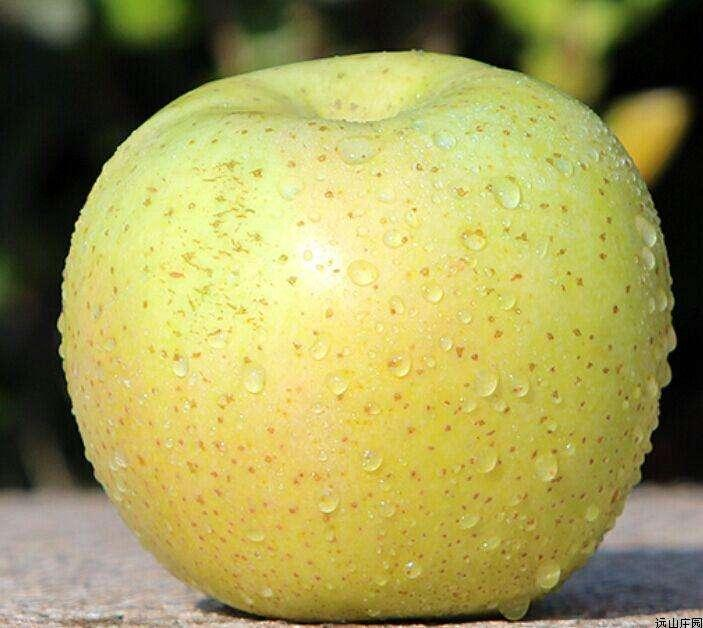apple: (57, 50, 668, 618)
